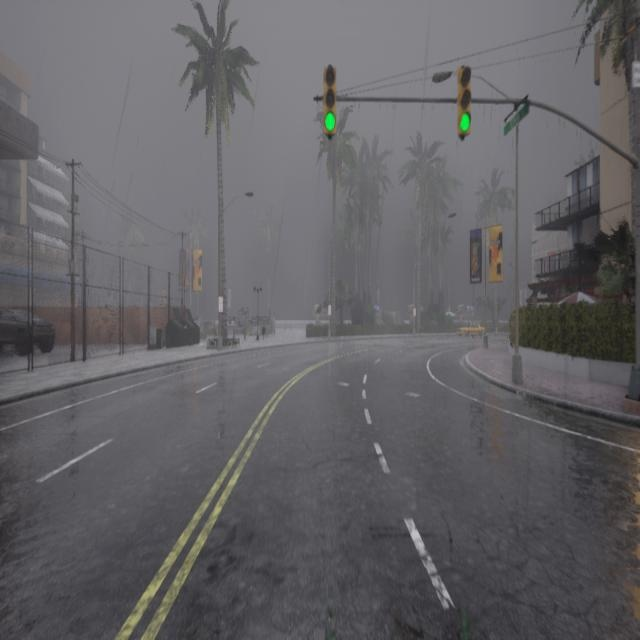bien_chi_dan: (322, 63, 338, 137), (457, 64, 472, 138), (458, 108, 472, 134), (324, 110, 336, 132)
